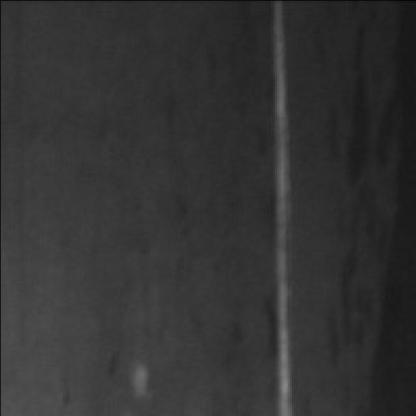scratches: (260, 4, 298, 416)
